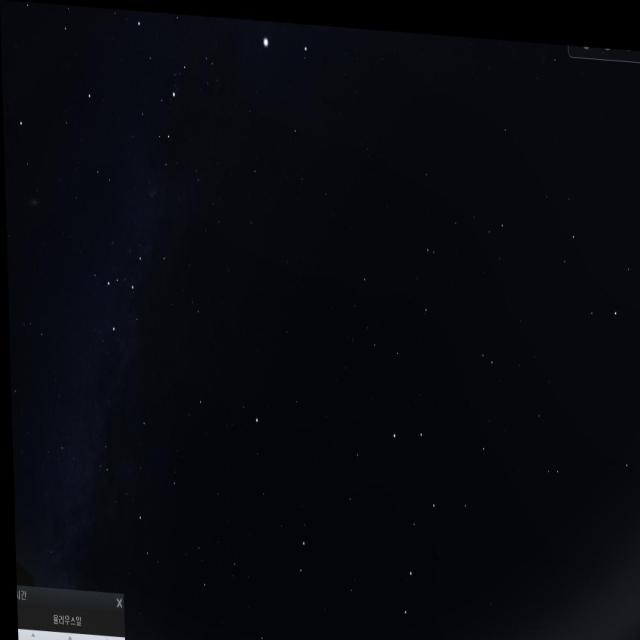ursa_major: (372, 395, 452, 640)
